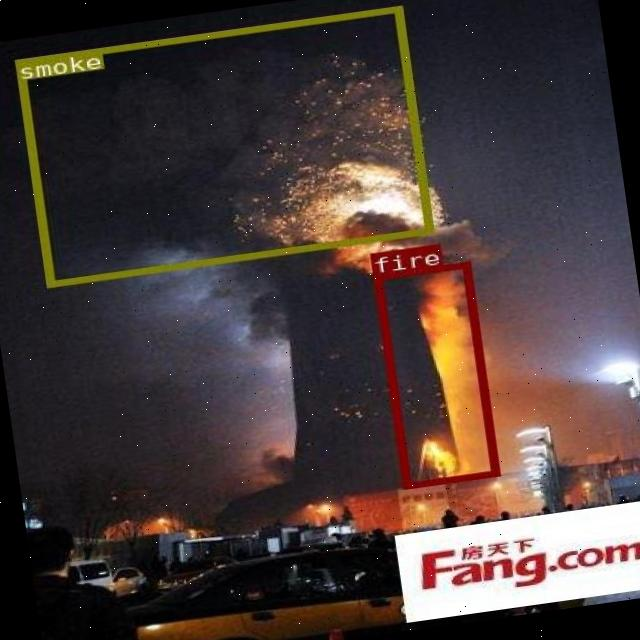fire: (374, 262, 499, 488)
smoke: (14, 6, 432, 287)
